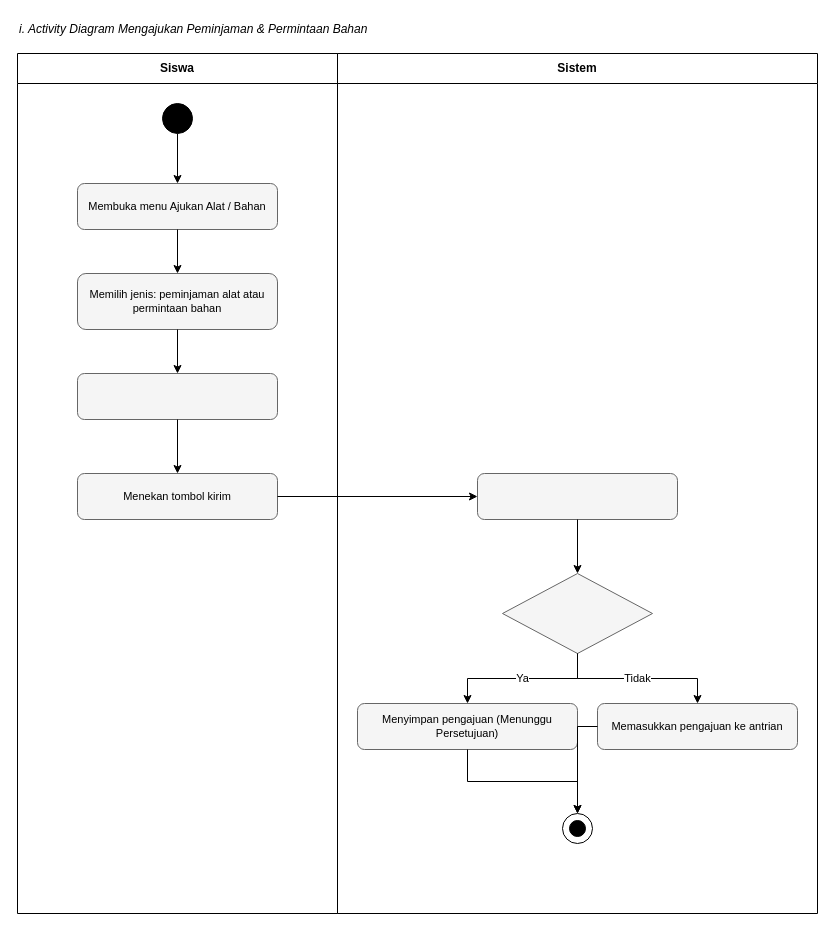
This 835x931 diagram has some shape labels left out. The shapes that lost their labels are listed below. From the top down, each one's centre as x and y in pixels, then its label:
At (x=177, y=396): "Memilih barang, jumlah & data pendukung".
At (x=577, y=496): "Memeriksa kelengkapan & stok".
At (x=577, y=613): "Stok mencukupi?".
